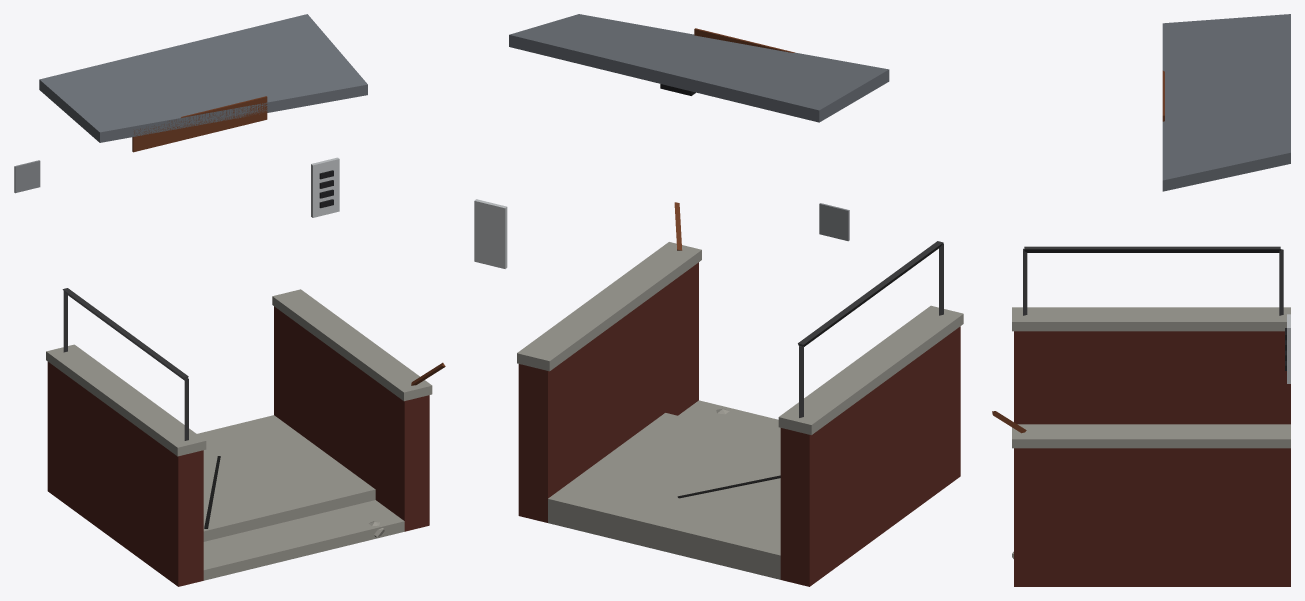
The model's file is entrance_stoop_rundown.glb.
The picture shows the model from 3 angles, left to right: view 1: azimuth 30°, elevation 25°; view 2: azimuth 150°, elevation 25°; view 3: azimuth 270°, elevation 25°; orthographic projection. The views are drawn at different scales.
Visible parts, largest first — view 1: entrance_stoop_rundown; view 2: entrance_stoop_rundown; view 3: entrance_stoop_rundown.
Boxes of the visible parts, left/top/right/bottom form: entrance_stoop_rundown: left=14, top=14, right=445, bottom=586; entrance_stoop_rundown: left=474, top=14, right=963, bottom=586; entrance_stoop_rundown: left=992, top=14, right=1290, bottom=586.
Bounding box in the file's own units: 1.93 × 2.37 × 1.46.
Materials: 1 (1 with a texture image).
